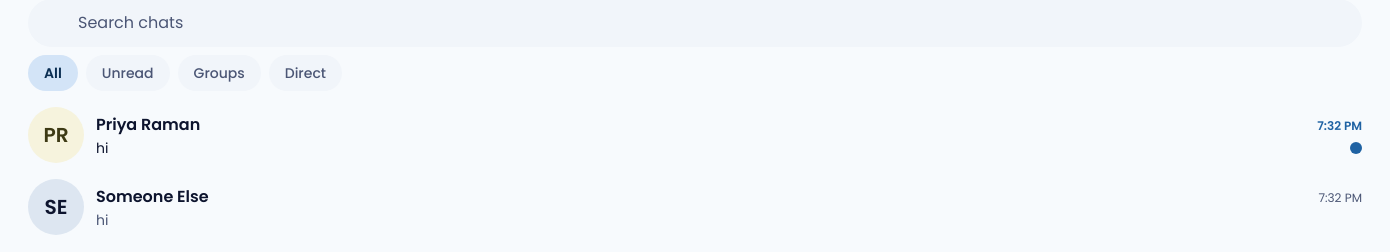
it: chat row actions › shows a dot for a chat marked unread, and the Unread filter counts it
Expected: the picture named "Marked as unread" is shown, left=1350, top=142, right=1362, bottom=154
What coordinates should you click on to do the following:
click the button "Unread"
I would click on:
 (128, 73)
Its box is left=86, top=55, right=170, bottom=91.
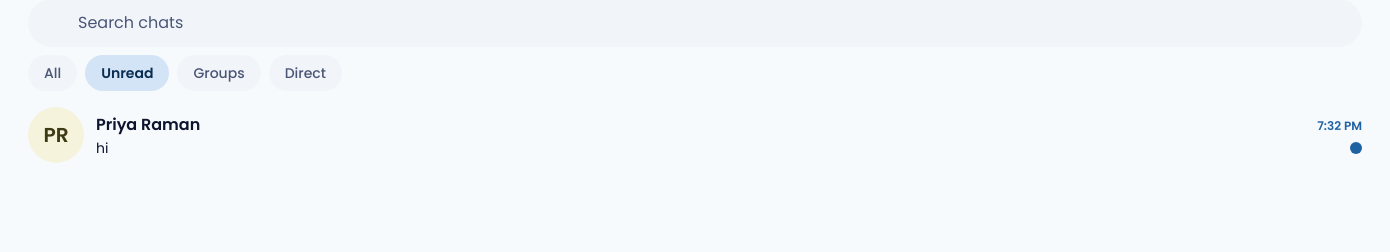
Expected: the text "Priya Raman" is shown, left=96, top=112, right=200, bottom=136
Now the button "Someone Else" is gone
